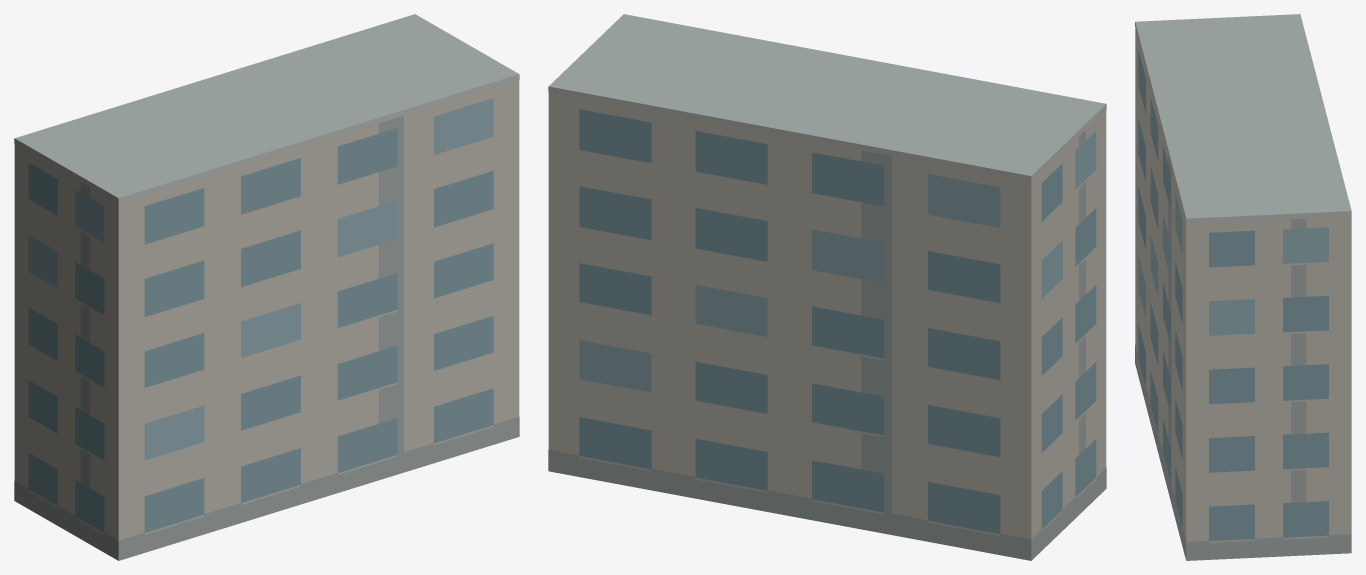
Rendered from residential-4b99af97-f402-4c74-a4b5-7ef4d81b7a72.glb.
3 renders of one model, left to right at view 1: azimuth 30°, elevation 25°; view 2: azimuth 150°, elevation 25°; view 3: azimuth 270°, elevation 25°, orthographic. The views are drawn at different scales.
Visible parts, largest first — view 1: residential-4b99af97-f402-4c74-a4b5-7ef4d81b7a72.tmp; view 2: residential-4b99af97-f402-4c74-a4b5-7ef4d81b7a72.tmp; view 3: residential-4b99af97-f402-4c74-a4b5-7ef4d81b7a72.tmp.
Boxes of the visible parts, bbox=[...] form: residential-4b99af97-f402-4c74-a4b5-7ef4d81b7a72.tmp: bbox=[14, 14, 519, 560]; residential-4b99af97-f402-4c74-a4b5-7ef4d81b7a72.tmp: bbox=[548, 14, 1106, 560]; residential-4b99af97-f402-4c74-a4b5-7ef4d81b7a72.tmp: bbox=[1135, 14, 1351, 560].
Bounding box in the file's own units: 19.57 × 15.25 × 8.75.
